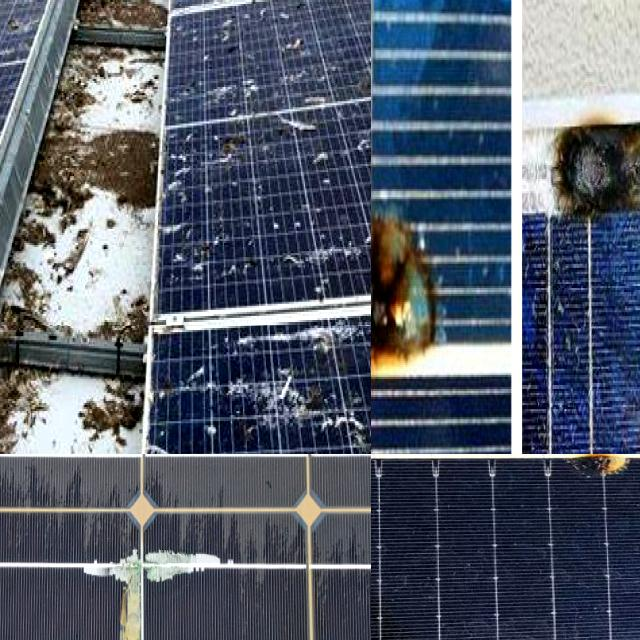bird: (222, 361, 338, 427), (265, 314, 371, 356), (0, 314, 72, 362), (0, 247, 55, 291), (203, 132, 257, 176), (0, 246, 23, 296), (202, 418, 228, 444), (0, 417, 18, 454), (0, 382, 17, 421), (0, 0, 28, 16), (0, 423, 12, 454)
shadow: (536, 101, 640, 454), (371, 182, 475, 384), (52, 531, 243, 640), (540, 454, 640, 500), (371, 454, 460, 499)
